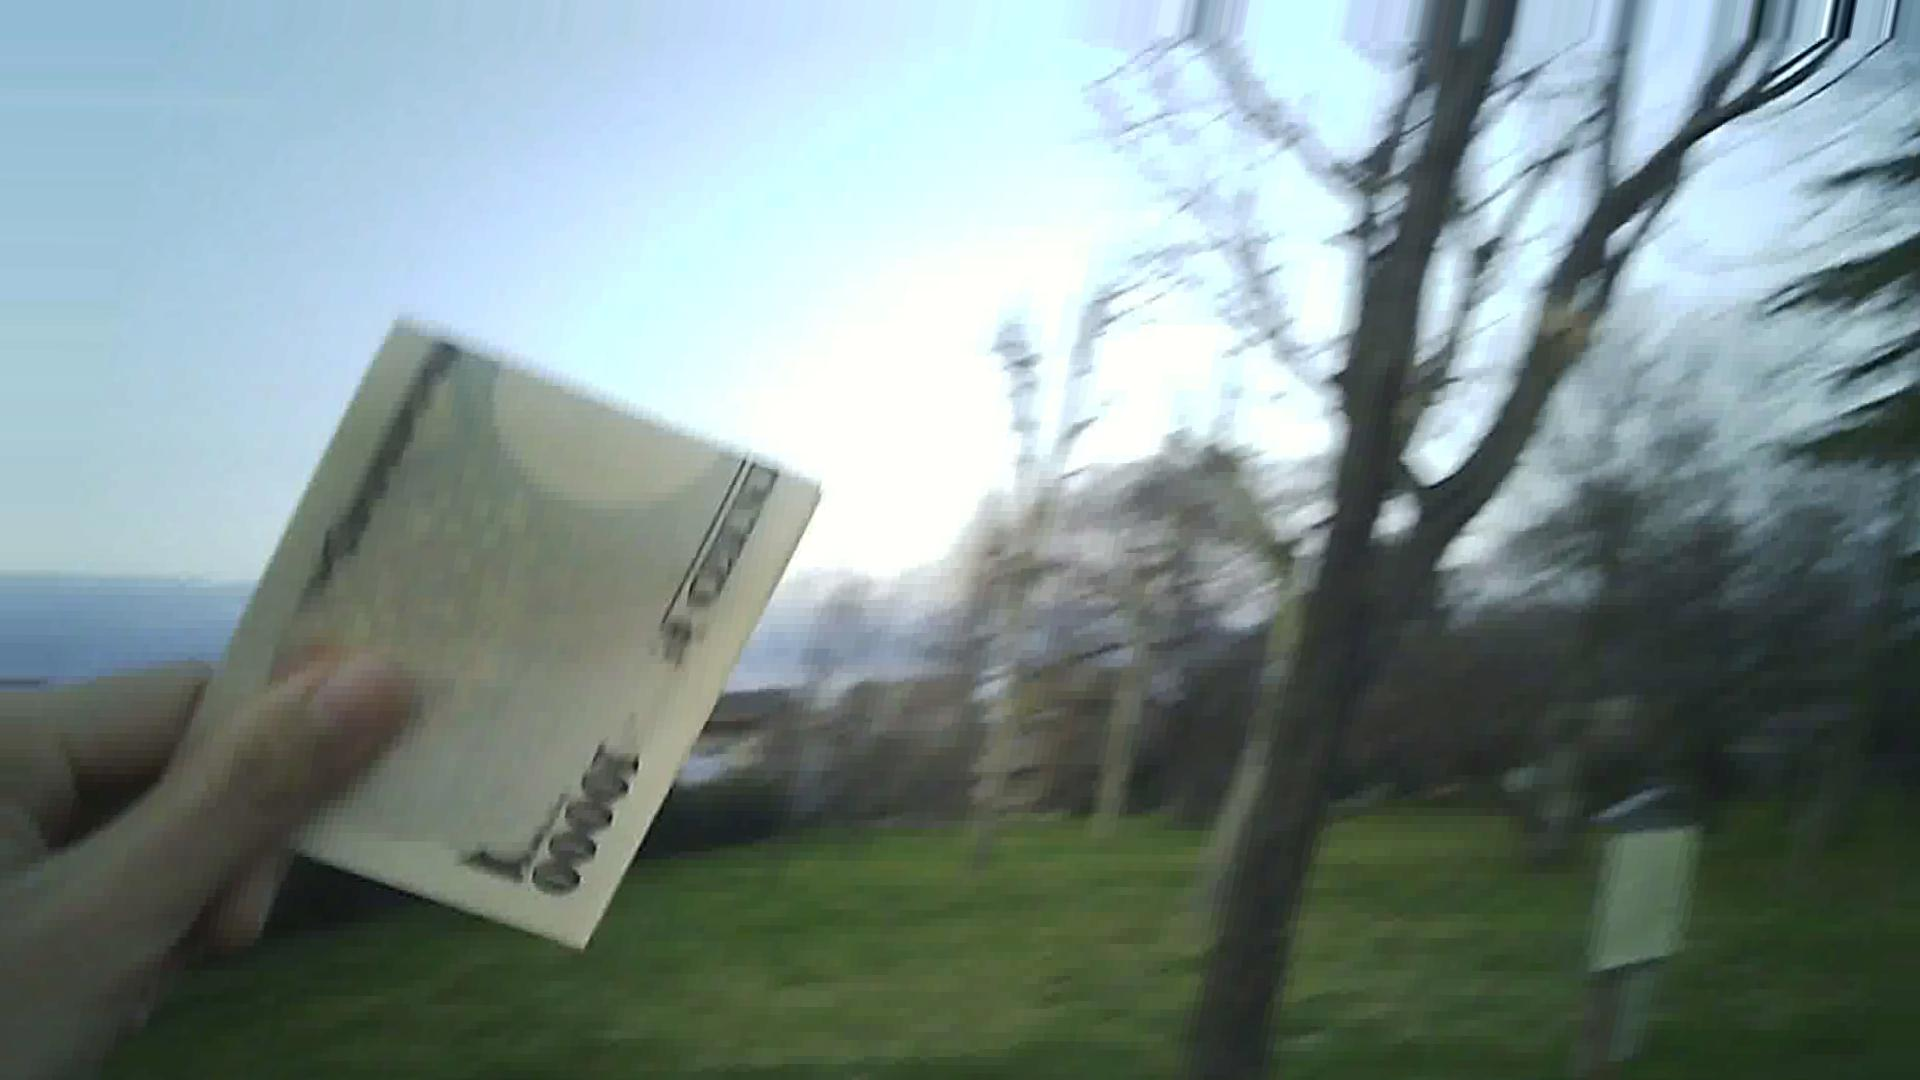10,000 Yen: (135, 301, 775, 982)
